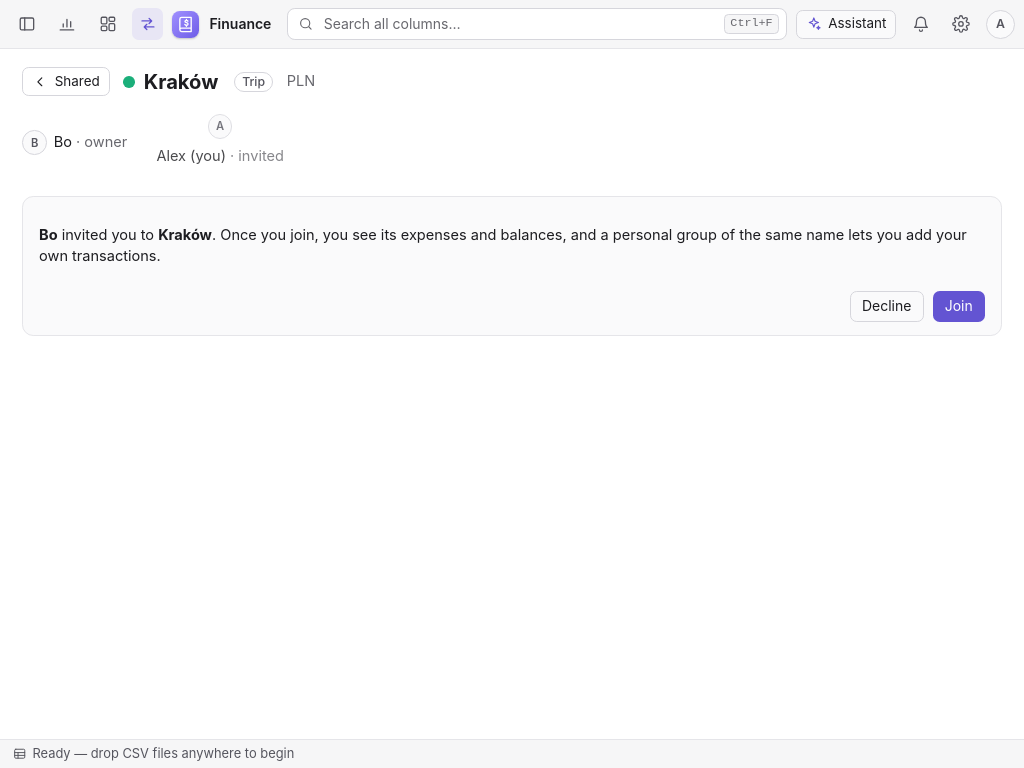
Test: the Shared tab › an invited user sees the members and joins
The image size is (1024, 768).
expect the element named "Invitation" shows "Bo invited you to Kraków": met, box [22, 196, 1002, 336]
Click the button "Join" at (959,306), box [932, 290, 985, 322]
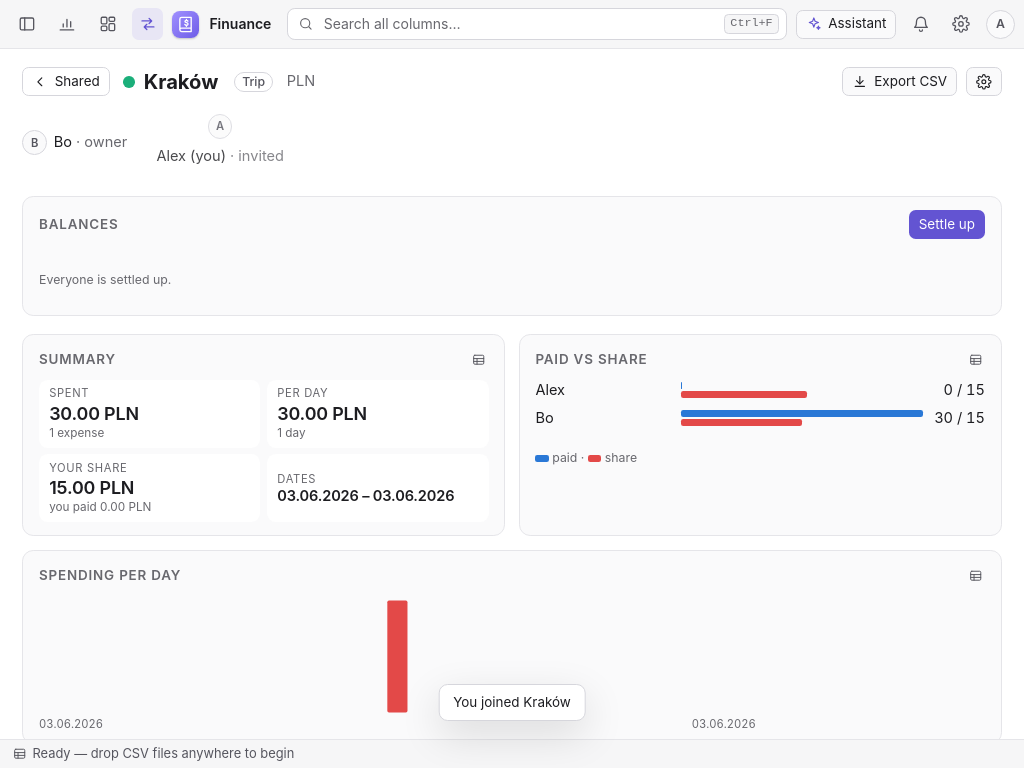
expect the element "Balances" is shown: met, box [22, 196, 1002, 316]
